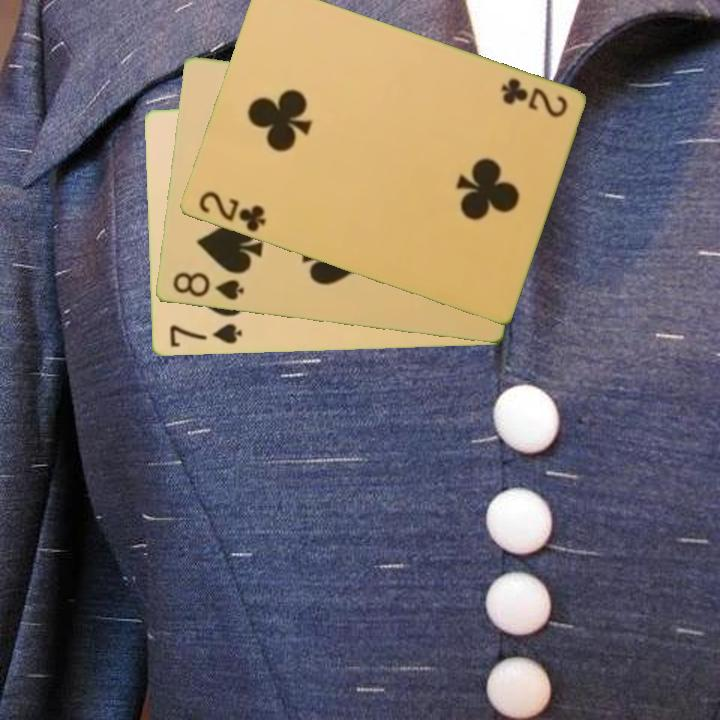2c: (194, 187, 269, 236), (496, 75, 570, 121)
7s: (166, 320, 244, 350)
8s: (169, 269, 247, 304)
